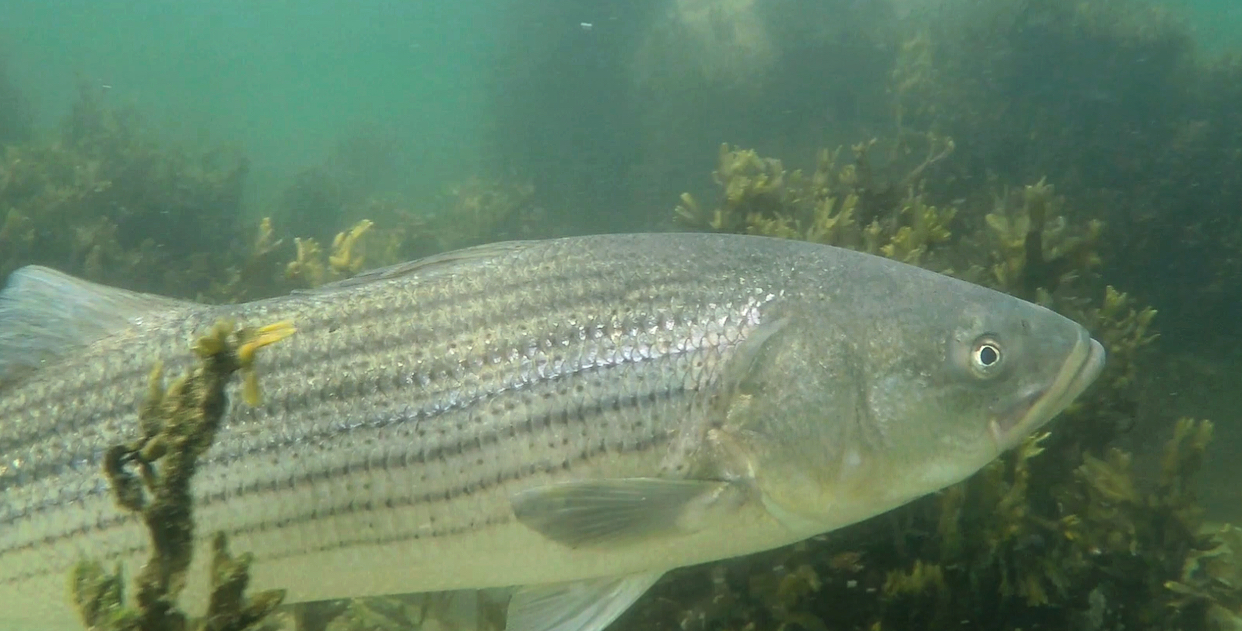Striped Bass: (16, 208, 1115, 579)
